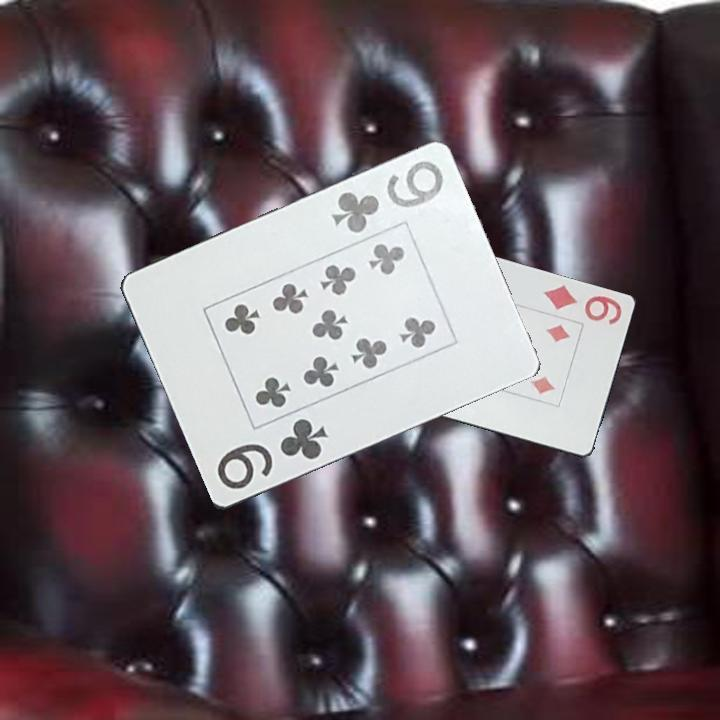6d: (540, 282, 626, 328)
9c: (327, 157, 447, 237), (213, 415, 331, 493)
